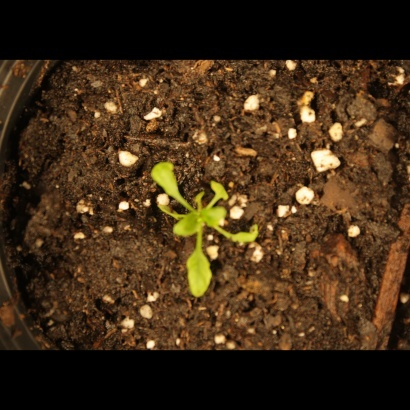leaf: (184, 245, 215, 302), (150, 155, 183, 201), (229, 220, 264, 251), (203, 174, 237, 205), (168, 212, 202, 237), (205, 205, 228, 228)
